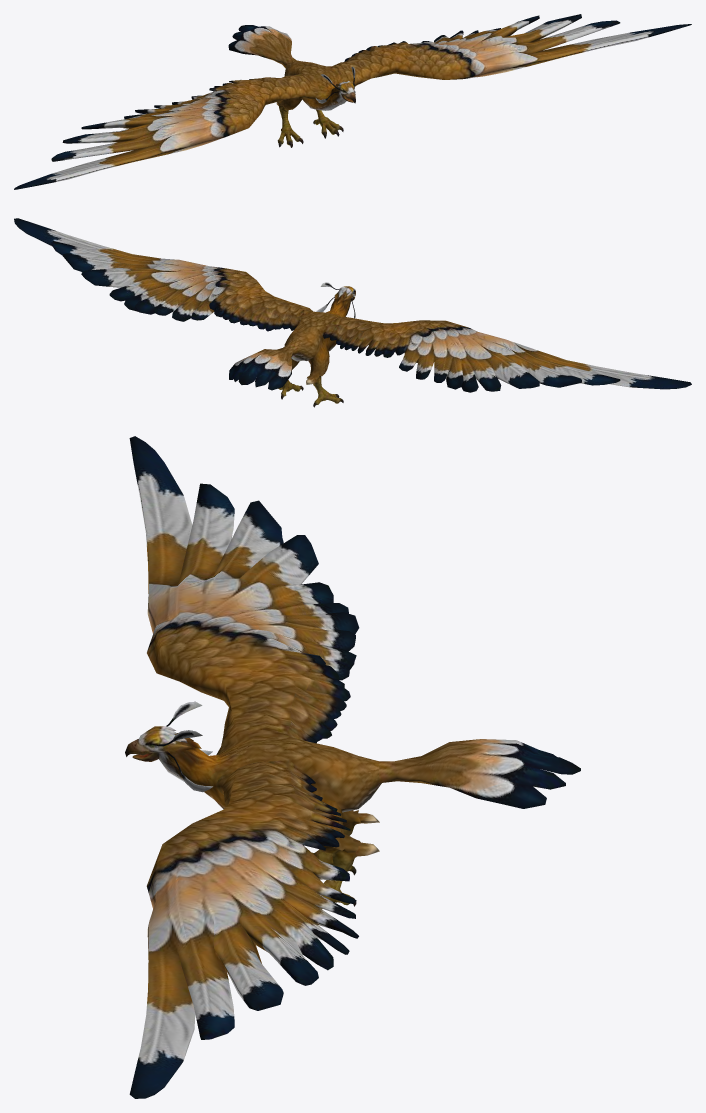
The model's file is 218-roc.glb.
3 renders of one model, top to bottom at view 1: azimuth 30°, elevation 25°; view 2: azimuth 150°, elevation 25°; view 3: azimuth 270°, elevation 25°, orthographic. The views are drawn at different scales.
Size of the model in its own units: 19.92 by 2.51 by 5.8.
1 material, 1 textured.
